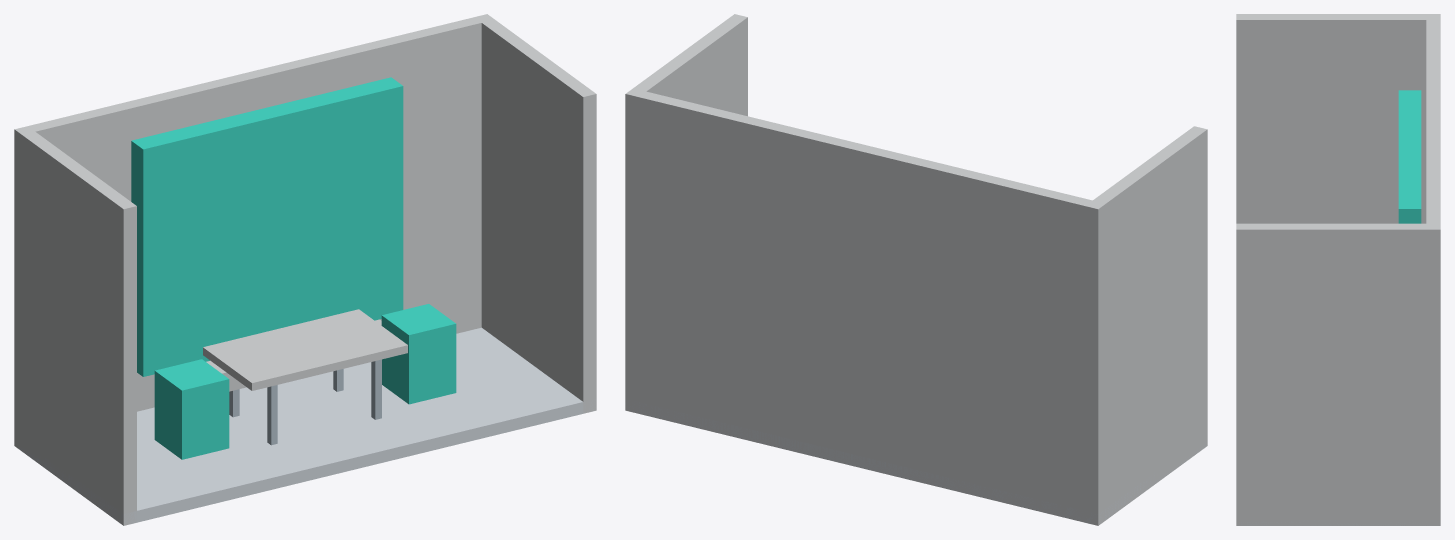
The picture shows the model from 3 angles, left to right: view 1: azimuth 30°, elevation 25°; view 2: azimuth 150°, elevation 25°; view 3: azimuth 270°, elevation 25°; orthographic projection. The views are drawn at different scales.
Visible parts, largest first — view 1: Exhibition Booth Concept; view 2: Exhibition Booth Concept; view 3: Exhibition Booth Concept.
Part boxes in pixels (bbox=[...]): Exhibition Booth Concept: bbox=[14, 14, 596, 525]; Exhibition Booth Concept: bbox=[625, 14, 1207, 525]; Exhibition Booth Concept: bbox=[1236, 14, 1440, 525].
Bounding box in the file's own units: 5 × 3.2 × 2.
